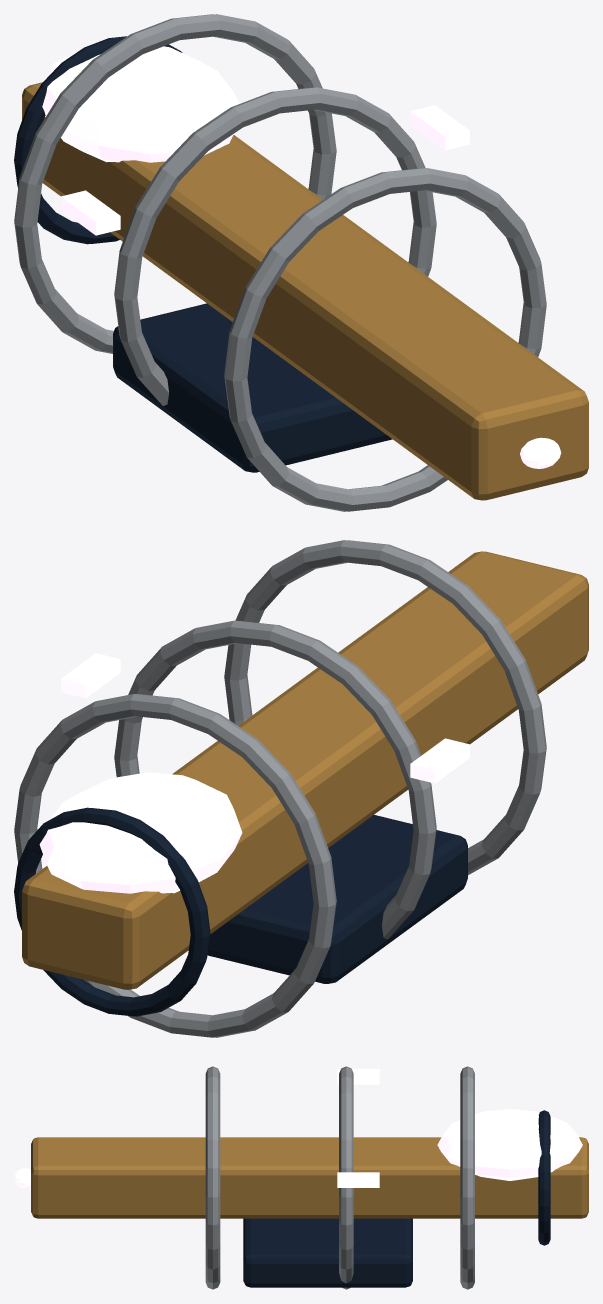
The picture shows the model from 3 angles, top to bottom: view 1: azimuth 30°, elevation 25°; view 2: azimuth 150°, elevation 25°; view 3: azimuth 270°, elevation 25°; orthographic projection. The views are drawn at different scales.
Visible parts, largest first — view 1: RIMWARD_HULL, RIMWARD_EMISSIVE, RIMWARD_ENGINE_GLOW; view 2: RIMWARD_HULL, RIMWARD_EMISSIVE; view 3: RIMWARD_HULL, RIMWARD_EMISSIVE.
Part boxes in pixels (x1=…): RIMWARD_HULL: x1=14, y1=14, x2=588, y2=511; RIMWARD_EMISSIVE: x1=42, y1=46, x2=469, y2=235; RIMWARD_ENGINE_GLOW: x1=520, y1=437, x2=561, y2=468; RIMWARD_HULL: x1=14, y1=540, x2=588, y2=1037; RIMWARD_EMISSIVE: x1=39, y1=653, x2=469, y2=893; RIMWARD_HULL: x1=31, y1=1066, x2=588, y2=1289; RIMWARD_EMISSIVE: x1=337, y1=1069, x2=582, y2=1187.
Size of the model in its own units: 4.75 by 4.07 by 10.43.
